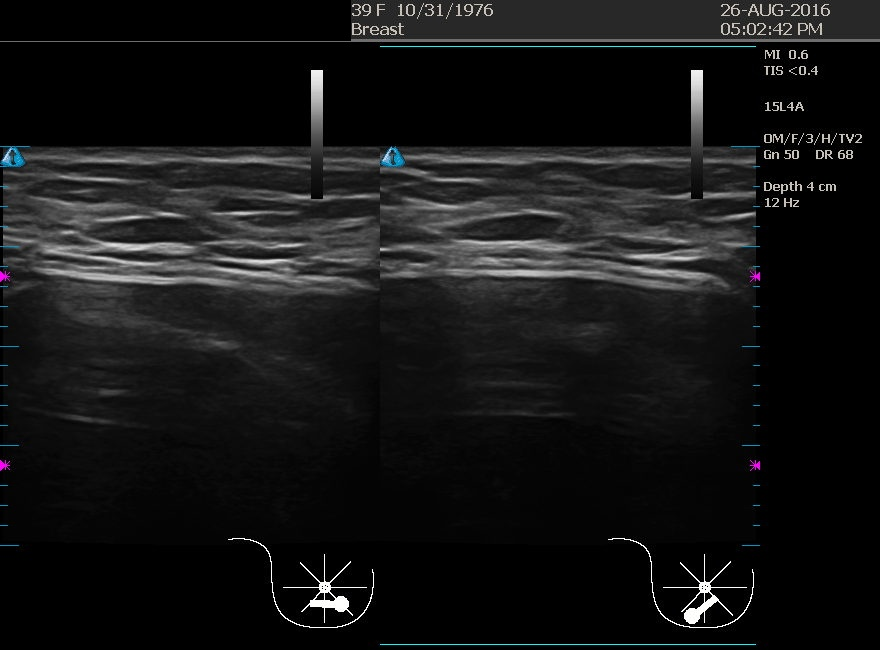BIRADS_3: (74, 153, 274, 354), (406, 154, 607, 354)
